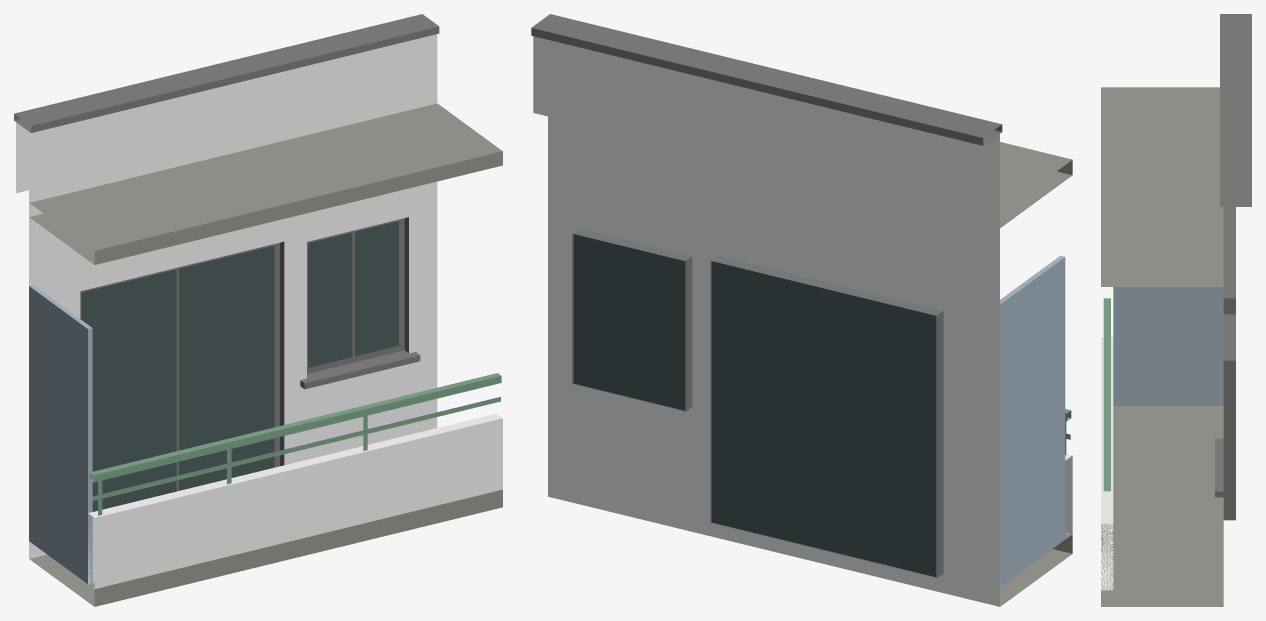
The model's file is top-w1.fbx.
The picture shows the model from 3 angles, left to right: view 1: azimuth 30°, elevation 25°; view 2: azimuth 150°, elevation 25°; view 3: azimuth 270°, elevation 25°; orthographic projection. The views are drawn at different scales.
Parts seen in each view (by area): view 1: a2006/250/top-w1; view 2: a2006/250/top-w1; view 3: a2006/250/top-w1.
Boxes of the visible parts, x1,y1,x2,y2 form: a2006/250/top-w1: (14, 14, 502, 606); a2006/250/top-w1: (531, 14, 1072, 606); a2006/250/top-w1: (1101, 14, 1251, 606).
Size of the model in its own units: 3.6 by 3.66 by 1.23.
